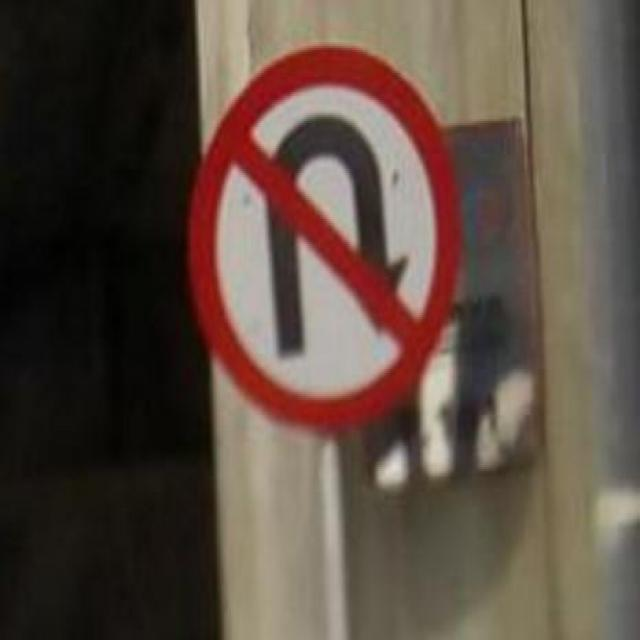traffic sign: (188, 48, 464, 432)
